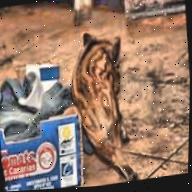boar: (75, 14, 150, 186)
